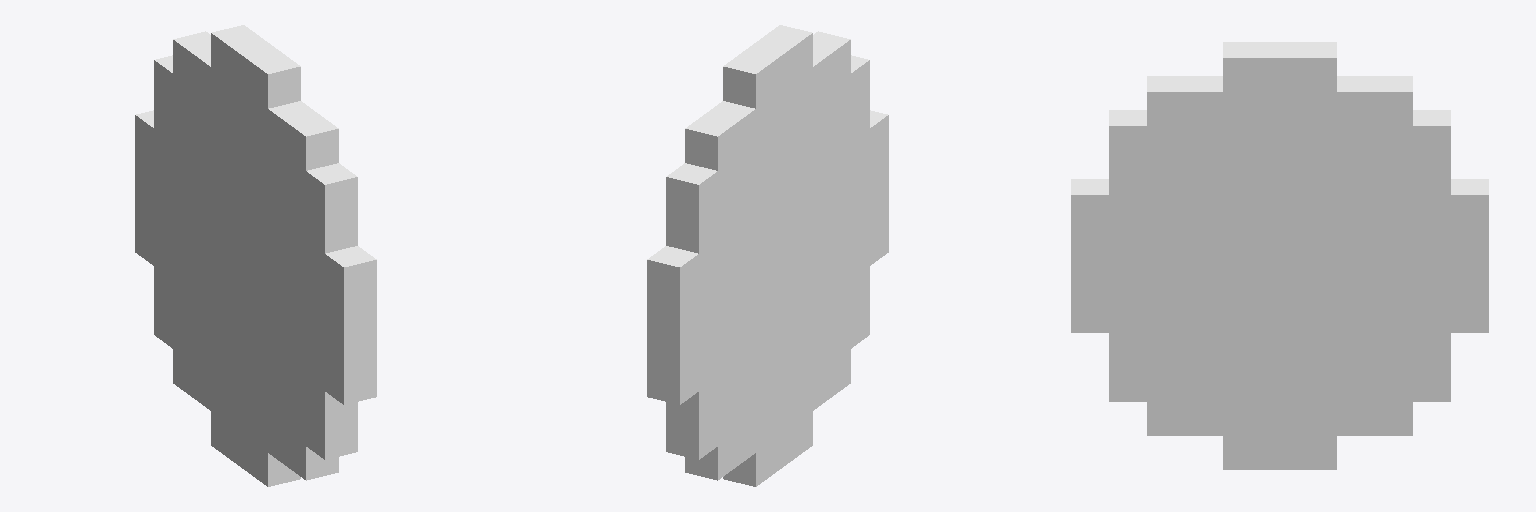
File: Respawn4.obj
The picture shows the model from 3 angles: view 1: azimuth 30°, elevation 25°; view 2: azimuth 150°, elevation 25°; view 3: azimuth 270°, elevation 25°; orthographic projection.
Visible parts, largest first — view 1: object 1; view 2: object 1; view 3: object 1.
Part boxes in pixels (x1,y1,x2,y2): object 1: (135, 25, 376, 486); object 1: (647, 25, 888, 486); object 1: (1071, 42, 1488, 469).
Size of the model in its own units: 0.1 by 1.2 by 1.1.